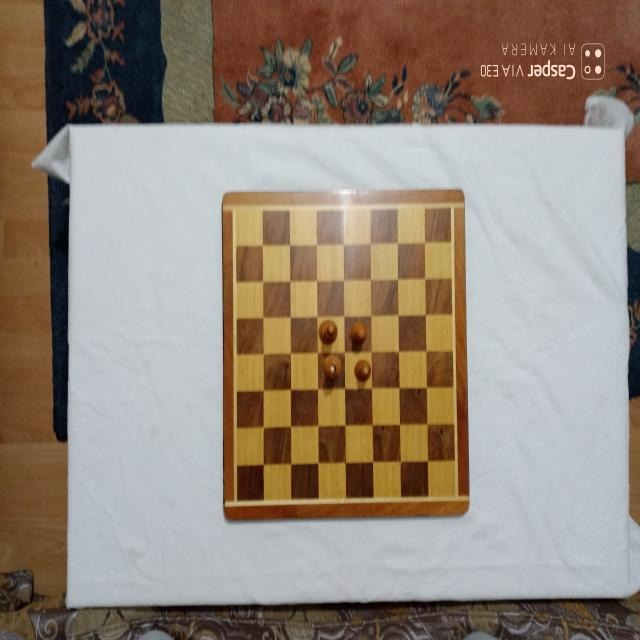white-bishop: (318, 319, 338, 345), (323, 354, 341, 381)
white-pawn: (348, 320, 367, 345), (354, 358, 372, 381)
